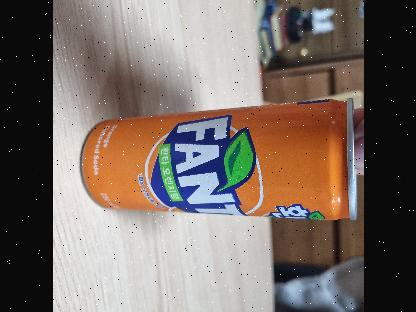Can: (83, 98, 349, 225)
